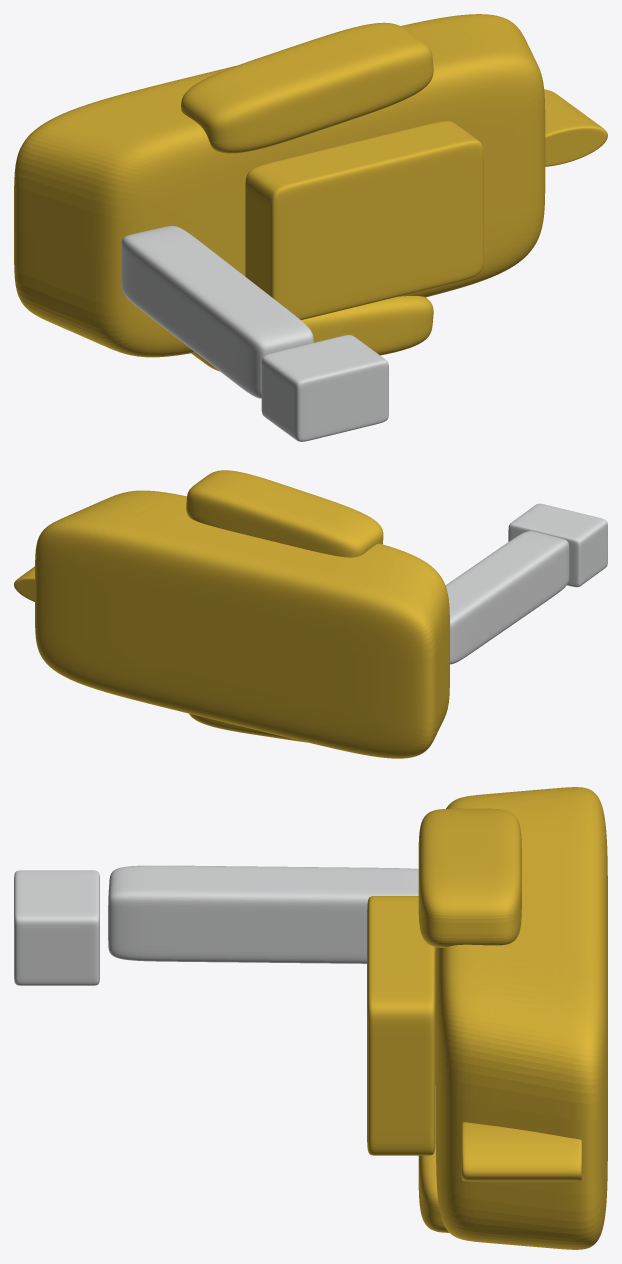
Rendered from swan_boat_wrong_head_sq.glb.
3 views of the same model, one above another, from view 1: azimuth 30°, elevation 25°; view 2: azimuth 150°, elevation 25°; view 3: azimuth 270°, elevation 25° (orthographic). The views are drawn at different scales.
Visible parts, largest first — view 1: superquadric_0, superquadric_1, superquadric_2, superquadric_4, superquadric_5, superquadric_3, superquadric_6; view 2: superquadric_0, superquadric_2, superquadric_4, superquadric_5, superquadric_3, superquadric_6; view 3: superquadric_0, superquadric_4, superquadric_1, superquadric_2, superquadric_5, superquadric_6, superquadric_3.
Part boxes in pixels (x1,y1,x2,y2): superquadric_0: [14, 14, 545, 357]; superquadric_1: [245, 121, 483, 319]; superquadric_2: [181, 22, 433, 153]; superquadric_4: [121, 226, 313, 398]; superquadric_5: [261, 335, 388, 441]; superquadric_3: [191, 296, 433, 371]; superquadric_6: [544, 89, 607, 166]; superquadric_0: [35, 490, 449, 758]; superquadric_2: [186, 470, 383, 557]; superquadric_4: [445, 531, 569, 664]; superquadric_5: [508, 503, 607, 587]; superquadric_3: [189, 713, 307, 742]; superquadric_6: [14, 566, 34, 601]; superquadric_0: [435, 787, 607, 1249]; superquadric_4: [108, 865, 435, 963]; superquadric_1: [367, 896, 435, 1155]; superquadric_2: [418, 808, 521, 947]; superquadric_5: [14, 870, 99, 985]; superquadric_6: [461, 1122, 582, 1181]; superquadric_3: [418, 1086, 449, 1232].
Bounding box in the file's own units: 1 × 0.5354 × 0.8489.
